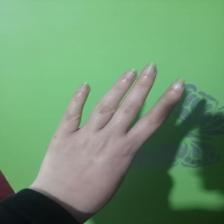four: (45, 63, 188, 207)
